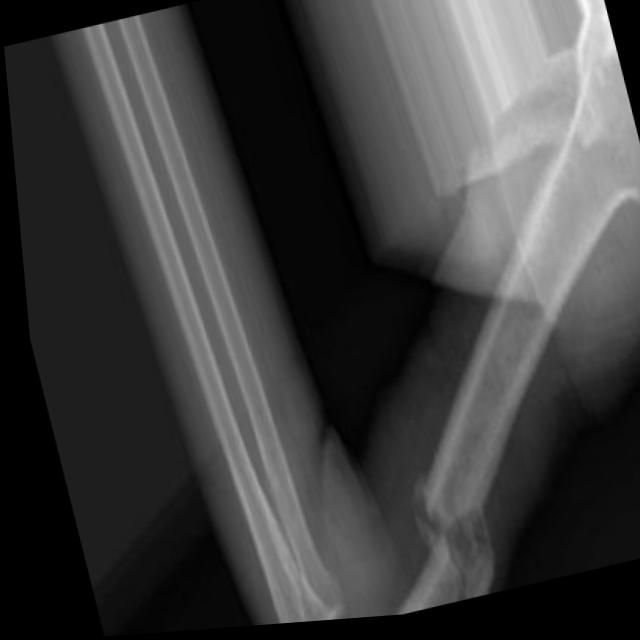fracture: (382, 459, 503, 615)
